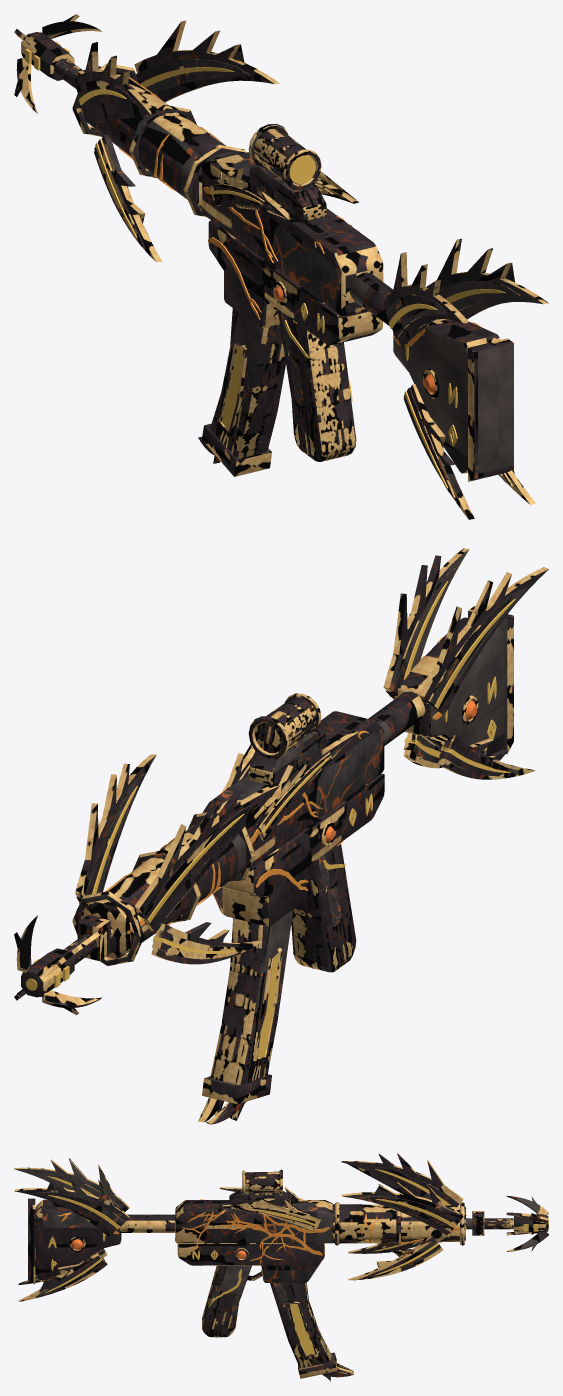
The model's file is Lava_AR.fbx.
3 renders of one model, top to bottom at view 1: azimuth 30°, elevation 25°; view 2: azimuth 150°, elevation 25°; view 3: azimuth 270°, elevation 25°, orthographic. The views are drawn at different scales.
Parts seen in each view (by area): view 1: Lava_AR_Body, Lava_AR_FinsGold, Lava_AR_Gold, Lava_AR_Grip, Lava_AR_FinsDark, Lava_AR_Mag, Lava_AR_Sight, Lava_AR_FinVeins, Lava_AR_Core, Lava_AR_Cracks, Lava_AR_Runes; view 2: Lava_AR_Body, Lava_AR_FinsGold, Lava_AR_Gold, Lava_AR_FinsDark, Lava_AR_Mag, Lava_AR_Grip, Lava_AR_Sight, Lava_AR_FinVeins, Lava_AR_Cracks, Lava_AR_Core, Lava_AR_Runes; view 3: Lava_AR_Body, Lava_AR_FinsGold, Lava_AR_FinsDark, Lava_AR_Gold, Lava_AR_Grip, Lava_AR_Mag, Lava_AR_Cracks, Lava_AR_FinVeins, Lava_AR_Sight, Lava_AR_Core, Lava_AR_Barrel, Lava_AR_Runes.
Boxes of the visible parts, x1=… form: Lava_AR_Body: x1=81, y1=72, x2=500, y2=473; Lava_AR_FinsGold: x1=14, y1=14, x2=548, y2=519; Lava_AR_Gold: x1=21, y1=32, x2=513, y2=481; Lava_AR_Grip: x1=277, y1=309, x2=356, y2=461; Lava_AR_FinsDark: x1=76, y1=58, x2=520, y2=499; Lava_AR_Mag: x1=210, y1=308, x2=285, y2=458; Lava_AR_Sight: x1=249, y1=128, x2=326, y2=221; Lava_AR_FinVeins: x1=78, y1=67, x2=505, y2=488; Lava_AR_Core: x1=25, y1=41, x2=315, y2=430; Lava_AR_Cracks: x1=119, y1=76, x2=480, y2=347; Lava_AR_Runes: x1=284, y1=303, x2=457, y2=446; Lava_AR_Body: x1=80, y1=617, x2=504, y2=958; Lava_AR_FinsGold: x1=14, y1=548, x2=548, y2=1124; Lava_AR_Gold: x1=21, y1=606, x2=513, y2=1104; Lava_AR_FinsDark: x1=76, y1=568, x2=527, y2=959; Lava_AR_Mag: x1=210, y1=910, x2=293, y2=1084; Lava_AR_Grip: x1=291, y1=844, x2=356, y2=972; Lava_AR_Sight: x1=250, y1=697, x2=326, y2=785; Lava_AR_FinVeins: x1=78, y1=581, x2=515, y2=953; Lava_AR_Cracks: x1=104, y1=637, x2=442, y2=933; Lava_AR_Core: x1=26, y1=955, x2=278, y2=1057; Lava_AR_Runes: x1=323, y1=676, x2=496, y2=869; Lava_AR_Body: x1=35, y1=1199, x2=465, y2=1282; Lava_AR_FinsGold: x1=14, y1=1153, x2=548, y2=1381; Lava_AR_FinsDark: x1=35, y1=1165, x2=459, y2=1296; Lava_AR_Gold: x1=28, y1=1169, x2=548, y2=1378; Lava_AR_Grip: x1=202, y1=1265, x2=251, y2=1337; Lava_AR_Mag: x1=270, y1=1282, x2=331, y2=1367; Lava_AR_Cracks: x1=39, y1=1199, x2=466, y2=1281; Lava_AR_FinVeins: x1=44, y1=1169, x2=456, y2=1293; Lava_AR_Sight: x1=229, y1=1171, x2=290, y2=1207; Lava_AR_Core: x1=290, y1=1221, x2=548, y2=1355; Lava_AR_Barrel: x1=466, y1=1218, x2=513, y2=1229; Lava_AR_Runes: x1=48, y1=1232, x2=241, y2=1307.
Size of the model in its own units: 68.46 by 190 by 436.
Materials: 5 (1 with a texture image).
